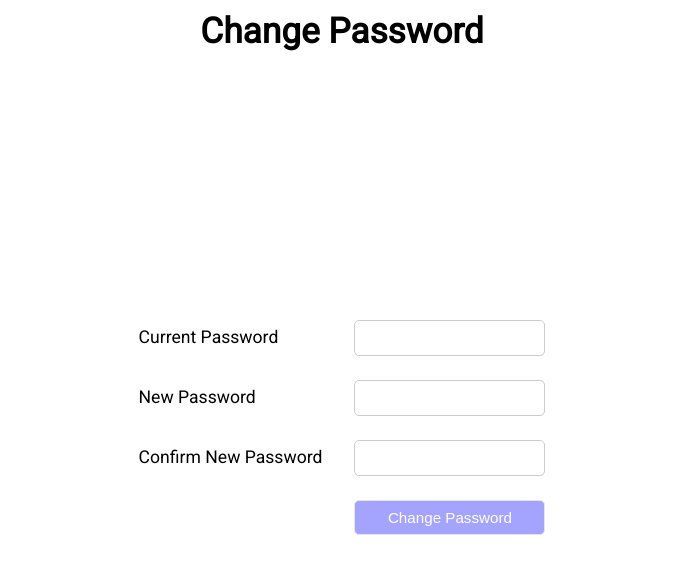
Test: should display the returned error message when changing the password in is unsuccessful
Type "random" into the password field labelled "Current Password" at [450, 338], box [354,320,545,356]
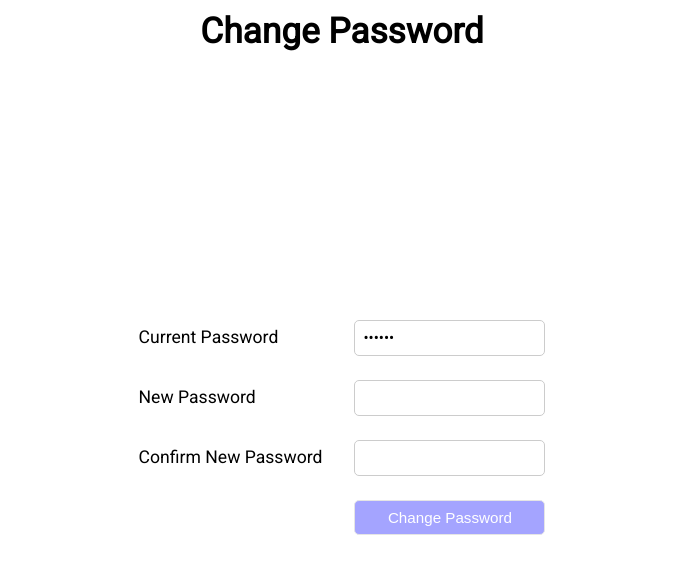
Type "abcde" into the password field labelled "New Password" at [450, 398], box [354,380,545,416]
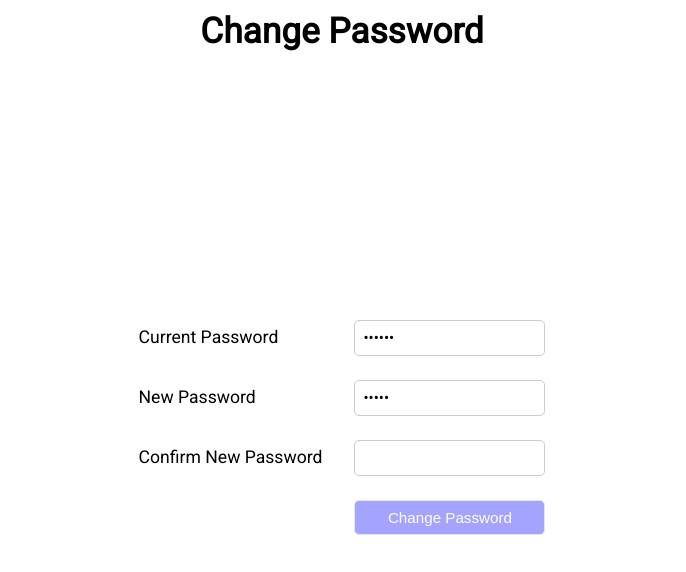
Type "abcde" into the password field labelled "Confirm New Password" at [450, 458], box [354,440,545,476]
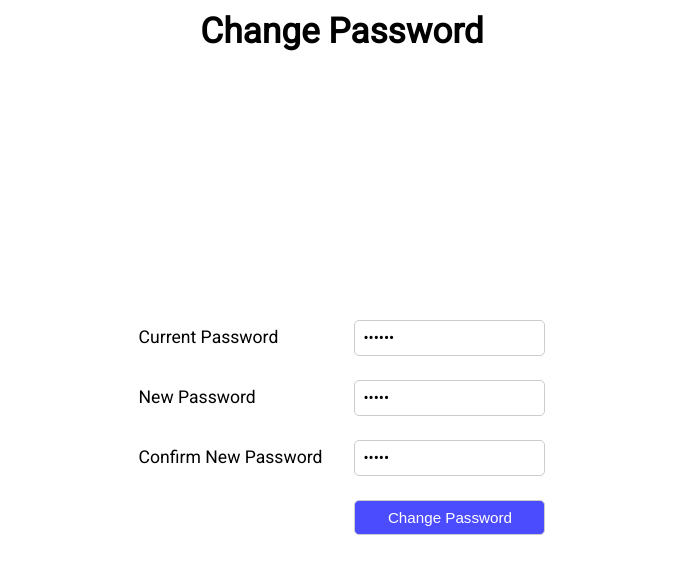
Click the button "Change Password" at [450, 518], box [354,500,545,535]
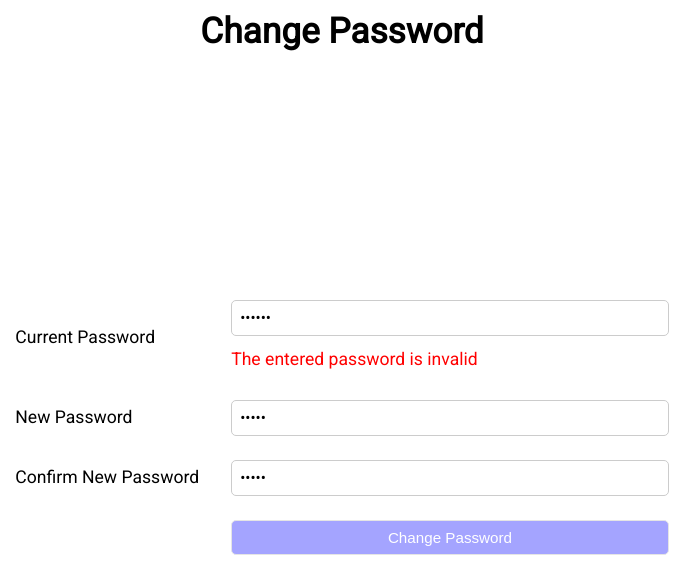
Expected: the text "The entered password is invalid" is shown, [231,344,478,376]
